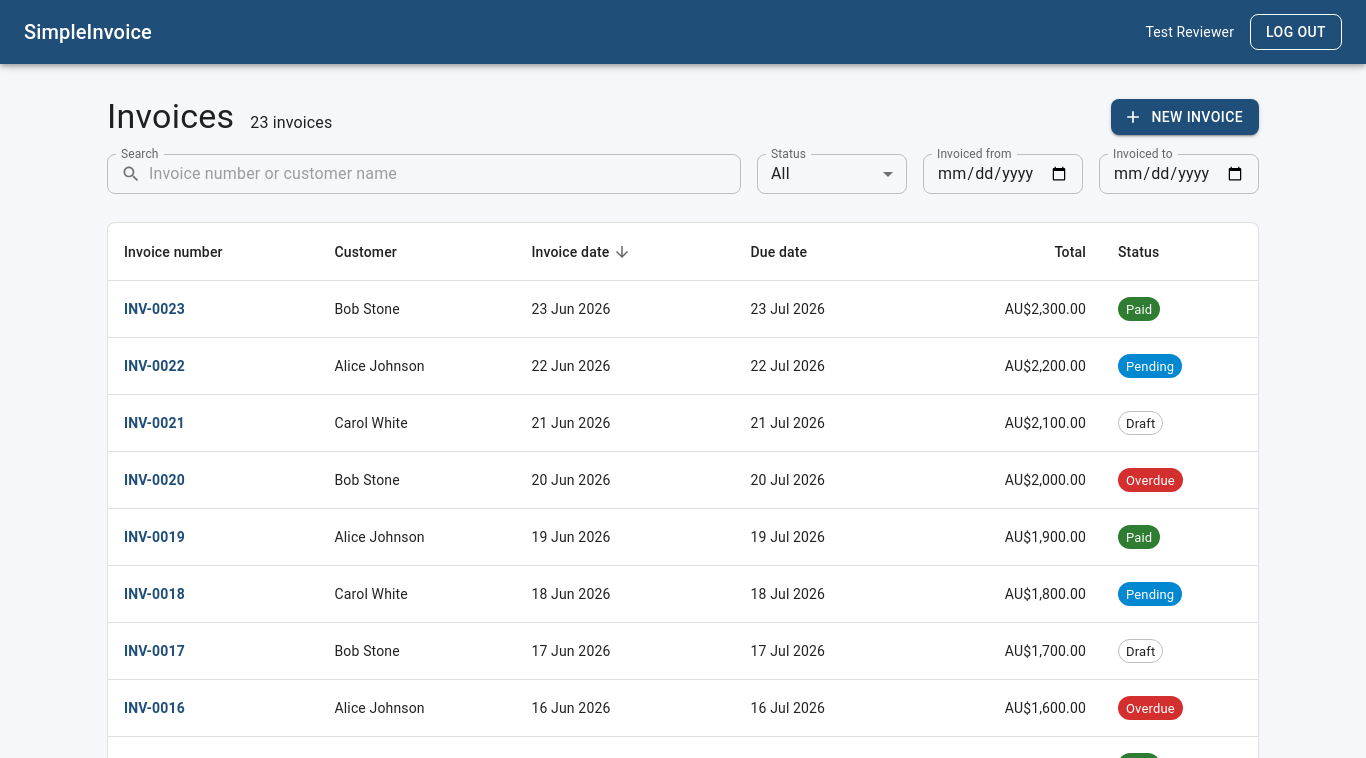
it: InvoiceListPage › search › sends one request once typing pauses, and shows the matches
This screenshot has width=1366, height=758.
Expected: the heading "Invoices" is shown, [107,96,234,138]
Type "carol" into the search field labelled "Search" at x=445, y=174, box [149,154,741,194]
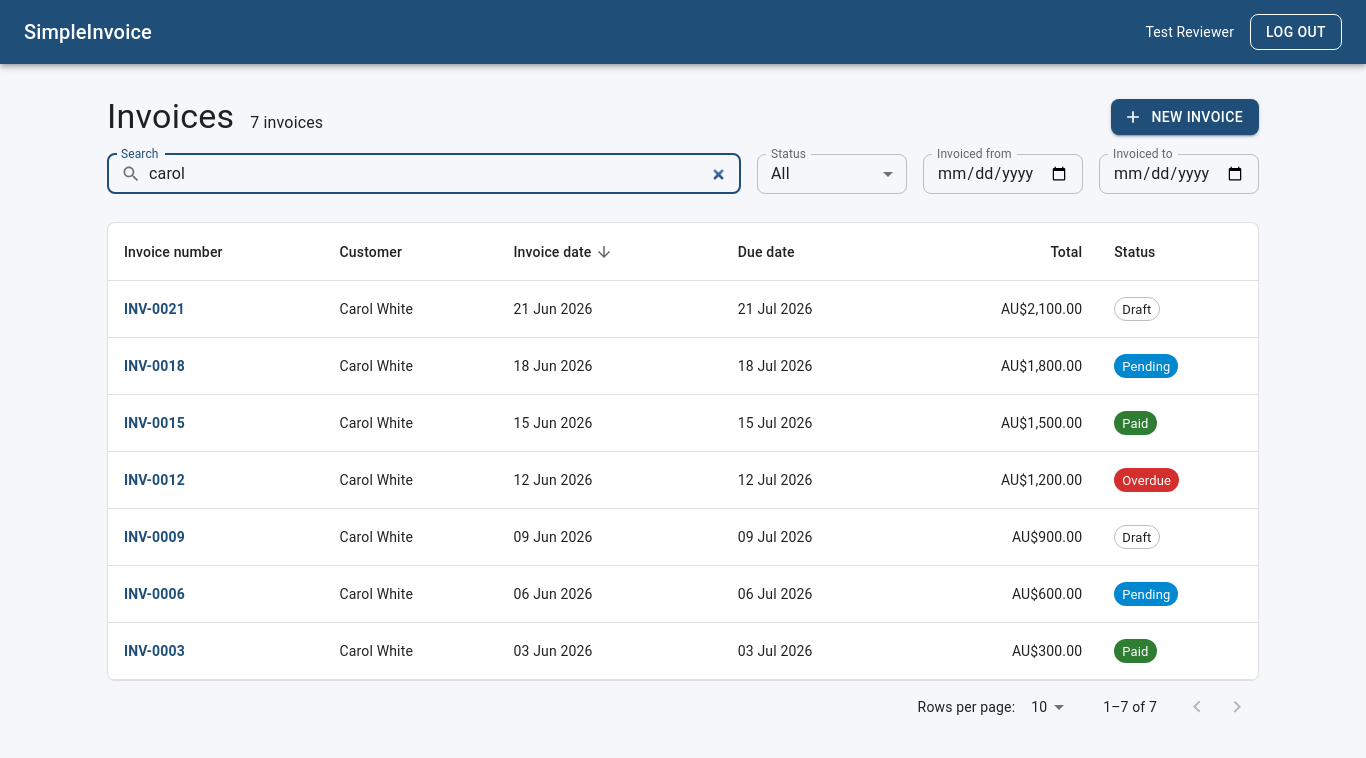
Now the text "7 invoices" is shown, box [250,111,323,135]
Now the row that starts with "INV-0012" shows "Carol White", box [340,472,413,488]
Now the row "INV-0009 Carol White 09 Jun 2026 09 Jul 2026 AU$900.00 Draft" is shown, box [108,509,1258,566]
